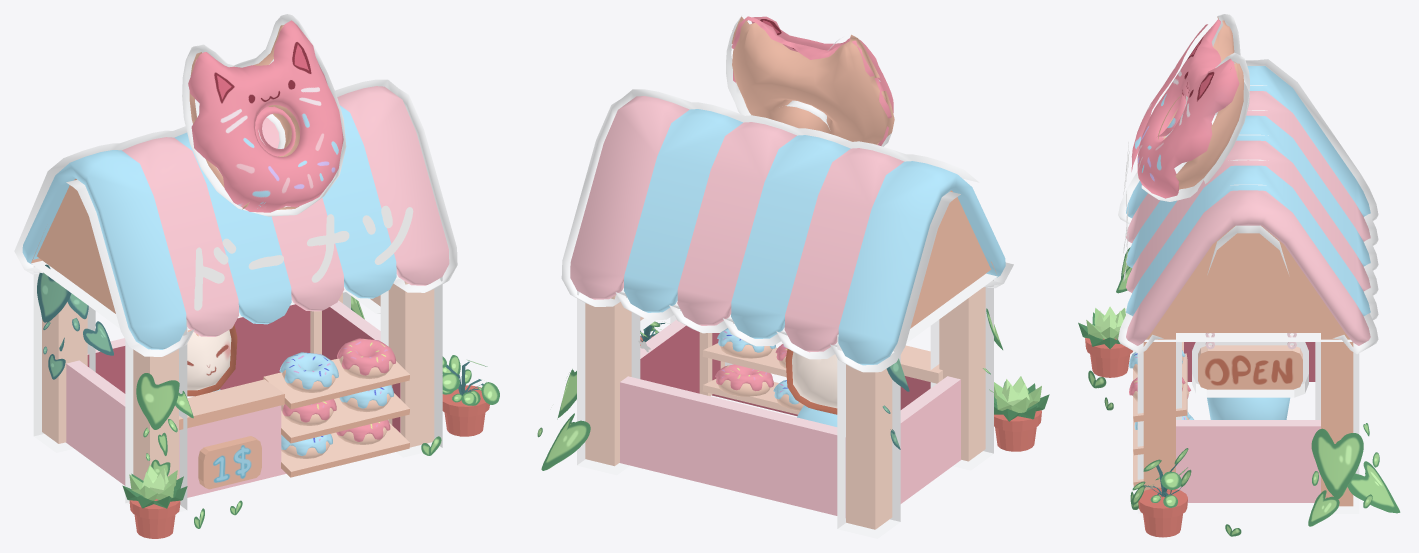
The model's file is kitty_donout_shop.glb.
The picture shows the model from 3 angles, left to right: view 1: azimuth 30°, elevation 25°; view 2: azimuth 150°, elevation 25°; view 3: azimuth 270°, elevation 25°; orthographic projection. The views are drawn at different scales.
Parts seen in each view (by area): view 1: topper.001, topper.004, Cube.016, Plane.066, topper.003, PolySphere.001, topper.002, Torus.010, Plane.040, Cylinder.001, Torus.013, Cylinder (+8 smaller); view 2: topper.001, topper.004, PolySphere.001, Cube.016, Torus.012, Cylinder, Plane.038, topper.003, Torus.011, Cube.021; view 3: topper.001, topper.004, Plane.033, Cube.005, Cylinder.001, Plane.038, Cylinder, Cube.016, Plane.034, Cube.022, Cube.021.
Part boxes in pixels (x1=…): topper.001: x1=14, y1=14, x2=457, y2=512; topper.004: x1=66, y1=300, x2=400, y2=497; Cube.016: x1=263, y1=358, x2=409, y2=477; Plane.066: x1=194, y1=205, x2=413, y2=310; topper.003: x1=179, y1=379, x2=284, y2=430; PolySphere.001: x1=187, y1=324, x2=237, y2=396; topper.002: x1=198, y1=436, x2=261, y2=489; Torus.010: x1=337, y1=338, x2=395, y2=378; Plane.040: x1=136, y1=373, x2=179, y2=429; Cylinder.001: x1=442, y1=385, x2=489, y2=436; Torus.013: x1=279, y1=352, x2=338, y2=389; Cylinder: x1=129, y1=499, x2=180, y2=538; topper.001: x1=561, y1=16, x2=1013, y2=538; topper.004: x1=619, y1=319, x2=960, y2=517; PolySphere.001: x1=785, y1=349, x2=837, y2=414; Cube.016: x1=702, y1=343, x2=799, y2=414; Torus.012: x1=715, y1=364, x2=773, y2=396; Cylinder: x1=994, y1=410, x2=1041, y2=451; Plane.038: x1=541, y1=413, x2=590, y2=470; topper.003: x1=900, y1=345, x2=942, y2=383; Torus.011: x1=717, y1=328, x2=775, y2=358; Cube.021: x1=994, y1=376, x2=1041, y2=412; topper.001: x1=1118, y1=14, x2=1378, y2=513; topper.004: x1=1176, y1=342, x2=1320, y2=502; Plane.033: x1=1311, y1=428, x2=1363, y2=498; Cube.005: x1=1207, y1=397, x2=1290, y2=419; Cylinder.001: x1=1138, y1=487, x2=1187, y2=537; Plane.038: x1=1347, y1=461, x2=1400, y2=513; Cylinder: x1=1085, y1=338, x2=1132, y2=377; Cube.016: x1=1133, y1=353, x2=1187, y2=486; Plane.034: x1=1308, y1=490, x2=1339, y2=526; Cube.022: x1=1095, y1=306, x2=1123, y2=331; Cube.021: x1=1086, y1=308, x2=1125, y2=339.
Size of the model in its own units: 11.36 by 11.98 by 8.38.
2 materials, 2 textured.
